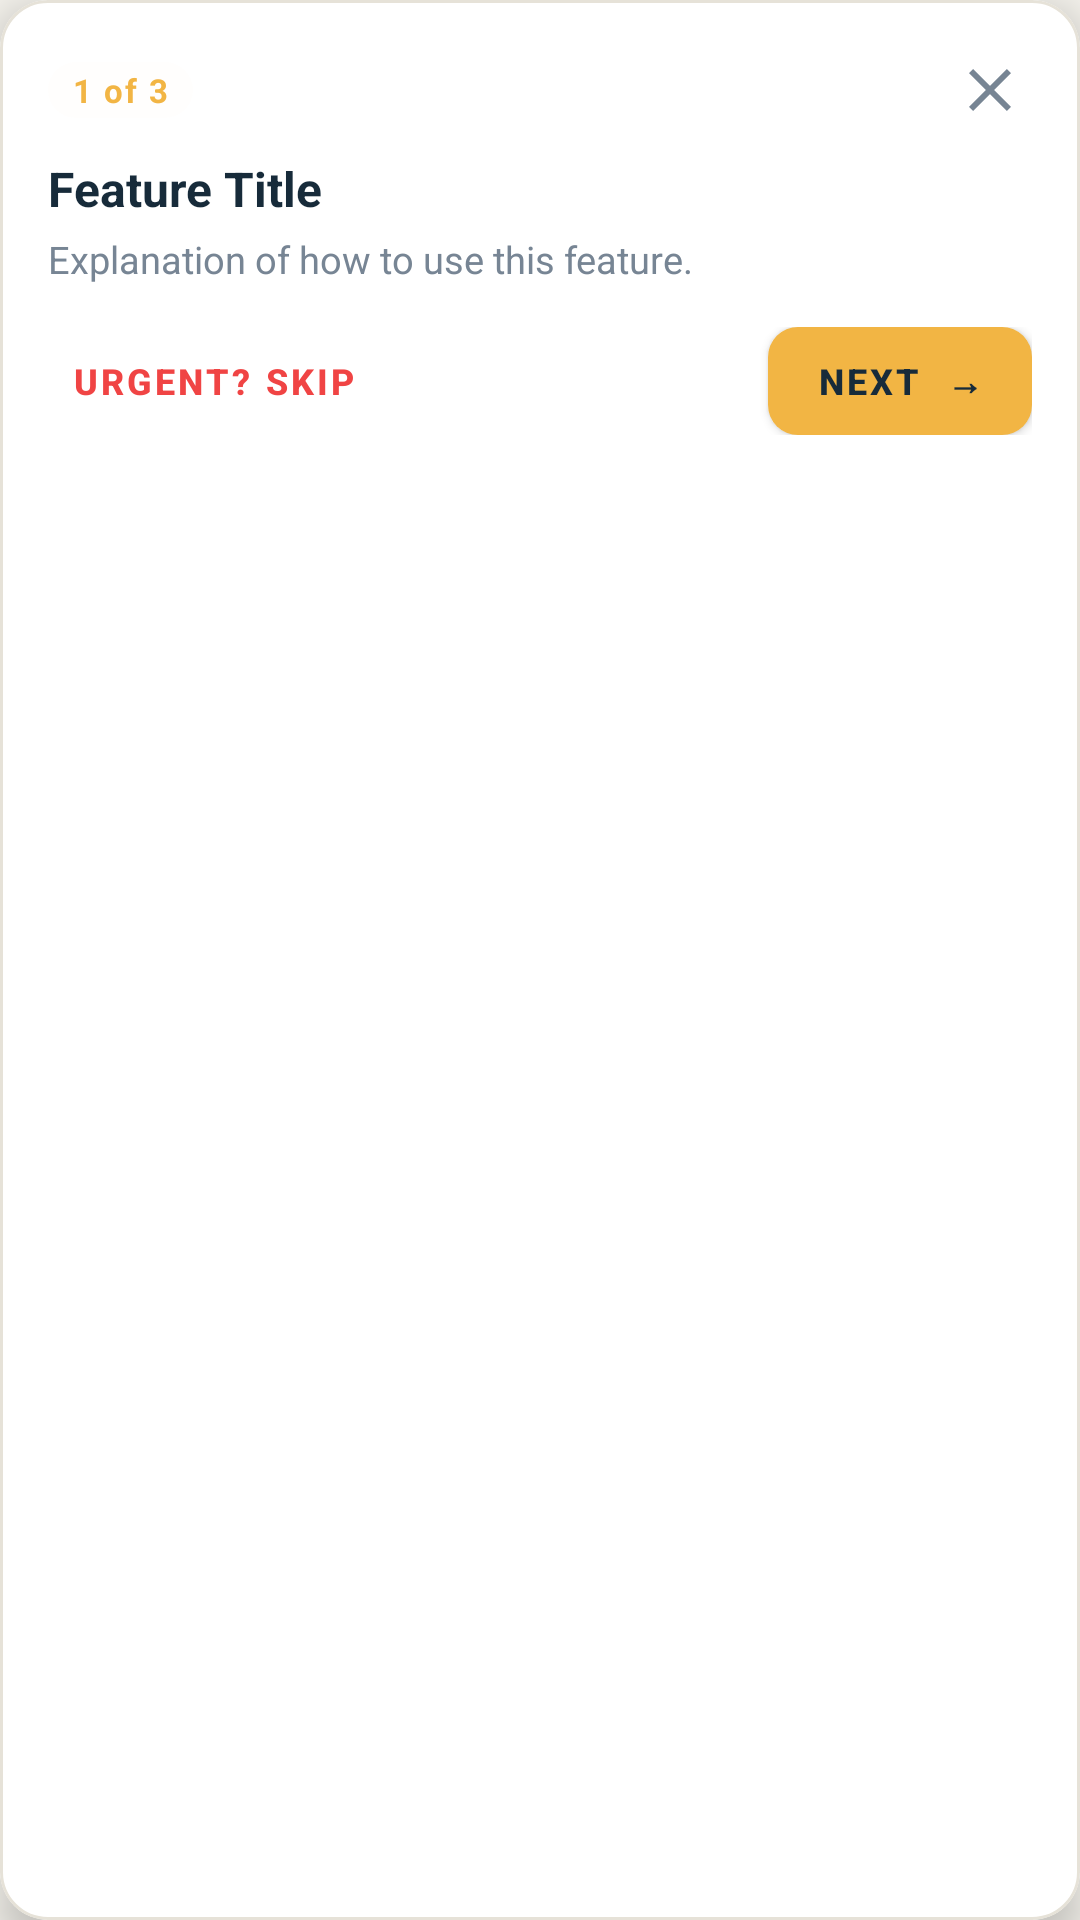

Point at icon controls on the screen. Image size 1080 × 1920, points as [x,y].
Close: [990,90]
